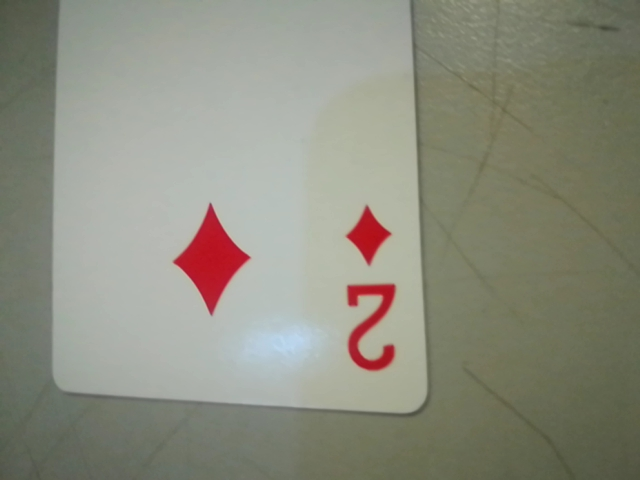fk 2: (327, 191, 413, 384)
